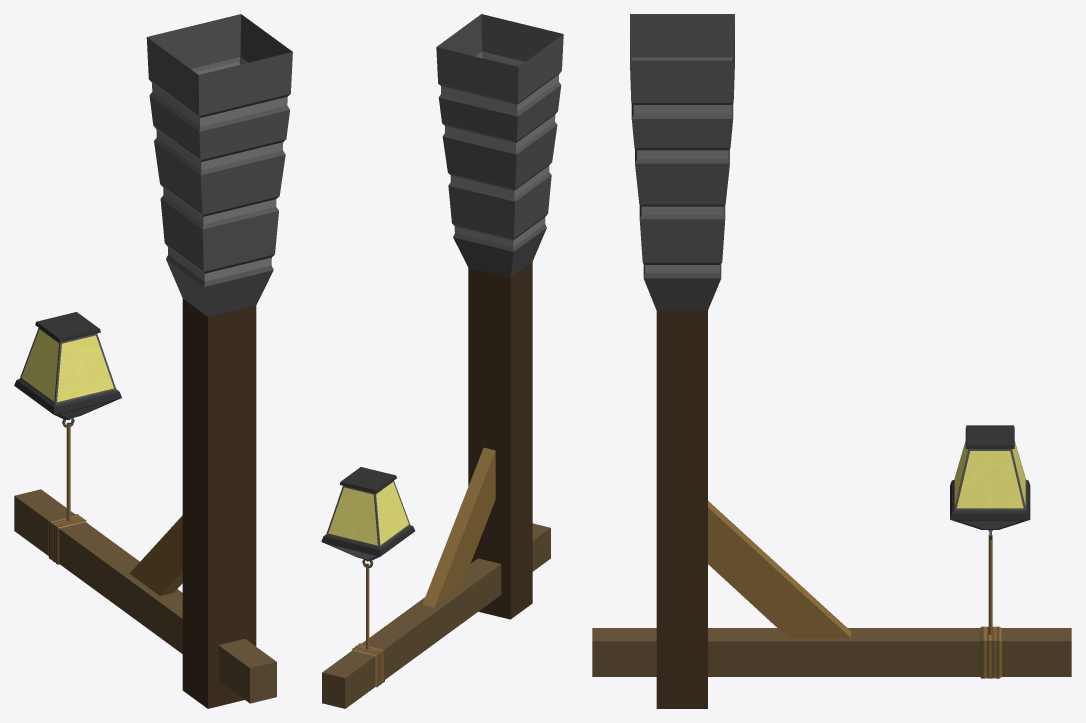
File: sm_lamp_wood_4.fbx
The picture shows the model from 3 angles, left to right: view 1: azimuth 30°, elevation 25°; view 2: azimuth 150°, elevation 25°; view 3: azimuth 270°, elevation 25°; orthographic projection. The views are drawn at different scales.
Parts seen in each view (by area): view 1: sm_lamp_wood_4; view 2: sm_lamp_wood_4; view 3: sm_lamp_wood_4.
Part boxes in pixels (x1=…): sm_lamp_wood_4: x1=14, y1=14, x2=292, y2=708; sm_lamp_wood_4: x1=321, y1=14, x2=563, y2=708; sm_lamp_wood_4: x1=592, y1=14, x2=1071, y2=708.
Bounding box in the file's own units: 27.94 × 184 × 121.
